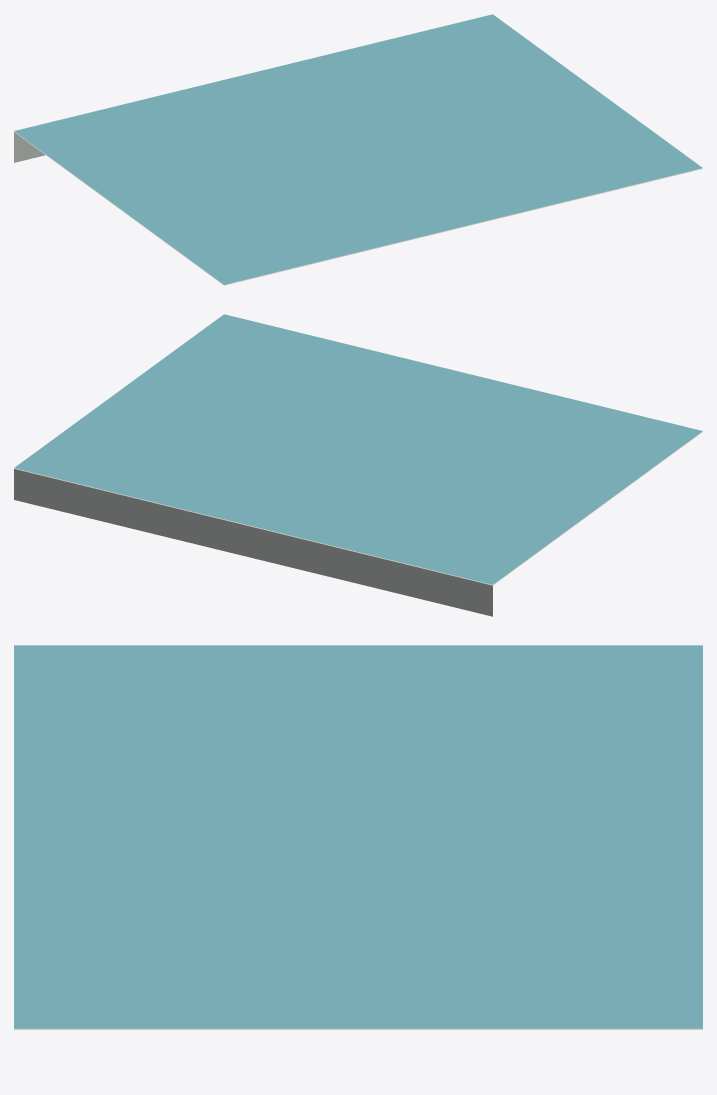
3 views of the same model, one above another, from view 1: azimuth 30°, elevation 25°; view 2: azimuth 150°, elevation 25°; view 3: azimuth 270°, elevation 25° (orthographic). The views are drawn at different scales.
Parts seen in each view (by area): view 1: city; view 2: city; view 3: city.
Boxes of the visible parts, x1,y1,x2,y2 form: city: (14, 14, 702, 285); city: (14, 314, 702, 616); city: (14, 645, 702, 1029).
Bounding box in the file's own units: 500 × 32.06 × 380.
